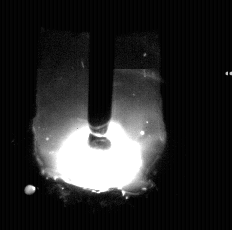arame: (88, 0, 114, 134)
poca: (34, 0, 168, 230)
